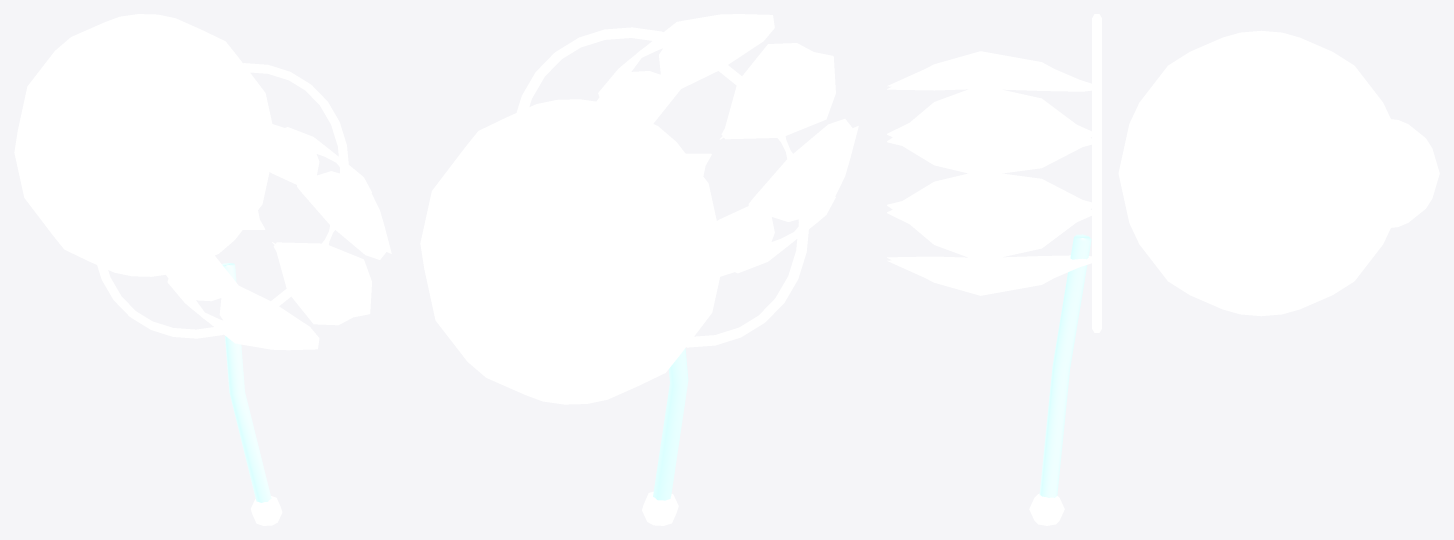
The model's file is Flower_Gold_Closed.glb.
The picture shows the model from 3 angles, left to right: view 1: azimuth 30°, elevation 25°; view 2: azimuth 150°, elevation 25°; view 3: azimuth 270°, elevation 25°; orthographic projection. The views are drawn at different scales.
Parts seen in each view (by area): view 1: ReceiverSphere_R4cm, Petals, ReceiverRim, Stem, PetalHighlights, StemBud; view 2: ReceiverSphere_R4cm, Petals, PearlCore, ReceiverRim, Stem, PetalHighlights, StemBud; view 3: ReceiverSphere_R4cm, Petals, Stem, PearlCore, ReceiverRim, PetalHighlights, StemBud.
Part boxes in pixels (<box>): ReceiverSphere_R4cm: <box>14,14,272,276</box>; Petals: <box>148,124,391,350</box>; ReceiverRim: <box>92,63,348,338</box>; Stem: <box>222,263,271,502</box>; PetalHighlights: <box>145,122,381,342</box>; StemBud: <box>251,496,282,525</box>; ReceiverSphere_R4cm: <box>420,99,723,404</box>; Petals: <box>596,14,858,276</box>; PearlCore: <box>446,249,550,359</box>; ReceiverRim: <box>516,27,809,347</box>; Stem: <box>653,348,688,500</box>; PetalHighlights: <box>601,34,822,266</box>; StemBud: <box>642,491,678,525</box>; ReceiverSphere_R4cm: <box>1118,30,1393,316</box>; Petals: <box>887,51,1091,295</box>; Stem: <box>1039,234,1091,497</box>; PearlCore: <box>1389,119,1439,227</box>; ReceiverRim: <box>1092,14,1101,332</box>; PetalHighlights: <box>908,68,1091,282</box>; StemBud: <box>1029,493,1064,525</box>.
Size of the model in its own units: 0.0894 by 0.1497 by 0.1548.
